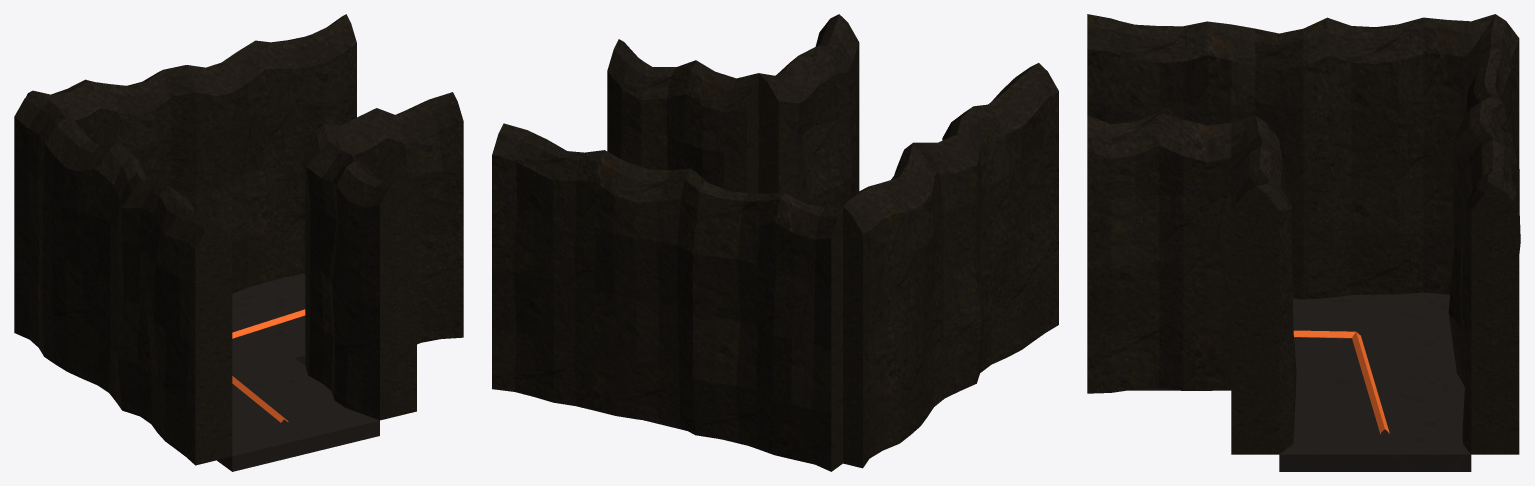
The model's file is cave_corner_01_lava.glb.
The picture shows the model from 3 angles, left to right: view 1: azimuth 30°, elevation 25°; view 2: azimuth 150°, elevation 25°; view 3: azimuth 270°, elevation 25°; orthographic projection. The views are drawn at different scales.
Visible parts, largest first — view 1: cave_corner_01_lava; view 2: cave_corner_01_lava; view 3: cave_corner_01_lava.
Boxes of the visible parts, bbox=[...] form: cave_corner_01_lava: bbox=[14, 14, 463, 471]; cave_corner_01_lava: bbox=[492, 14, 1058, 471]; cave_corner_01_lava: bbox=[1087, 14, 1520, 471].
Size of the model in its own units: 4.58 by 3.3 by 4.51.
3 materials, 3 textured.
